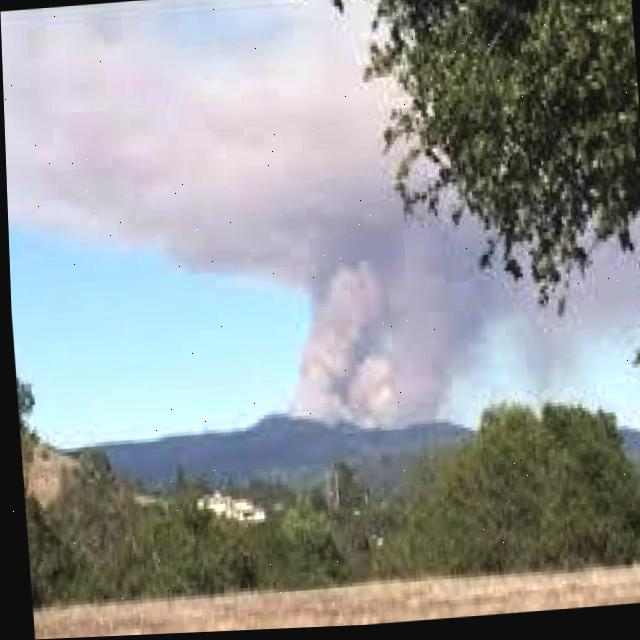smoke: (0, 0, 393, 288), (306, 264, 444, 436)
